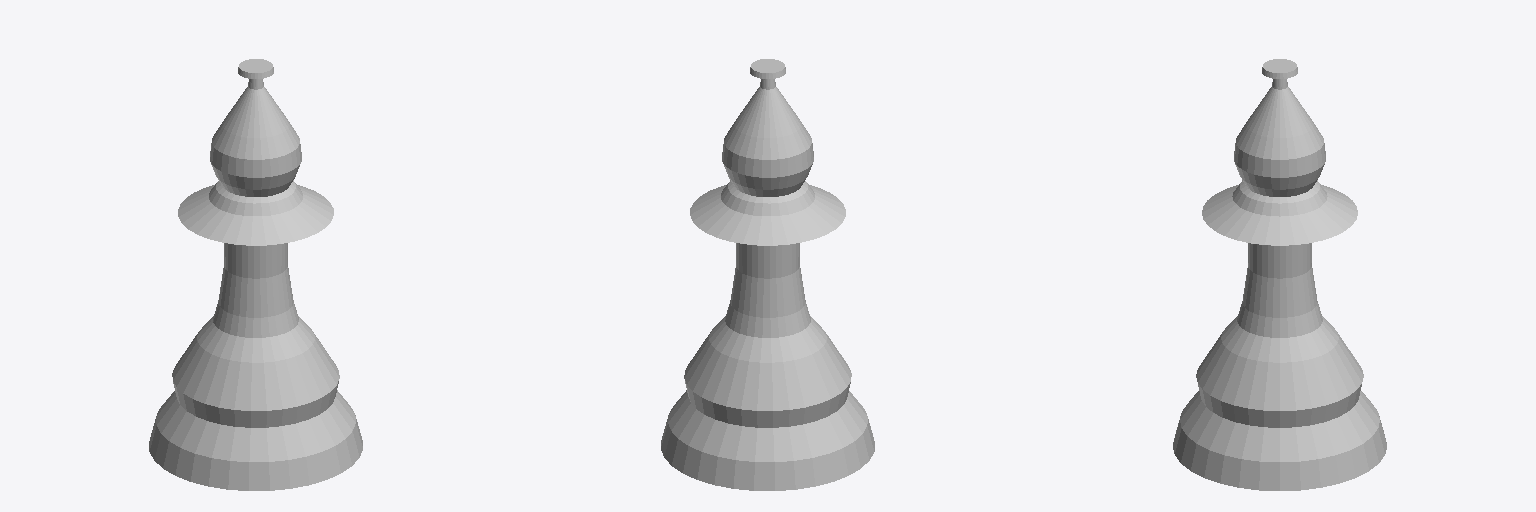
File: bishop.obj
3 views of the same model, side by side, from view 1: azimuth 30°, elevation 25°; view 2: azimuth 150°, elevation 25°; view 3: azimuth 270°, elevation 25° (orthographic).
Parts seen in each view (by area): view 1: Cylinder.001; view 2: Cylinder.001; view 3: Cylinder.001.
Boxes of the visible parts, x1=… form: Cylinder.001: x1=149, y1=59, x2=362, y2=490; Cylinder.001: x1=661, y1=59, x2=874, y2=490; Cylinder.001: x1=1173, y1=59, x2=1386, y2=490.
Bounding box in the file's own units: 3.79 × 7.38 × 3.79.